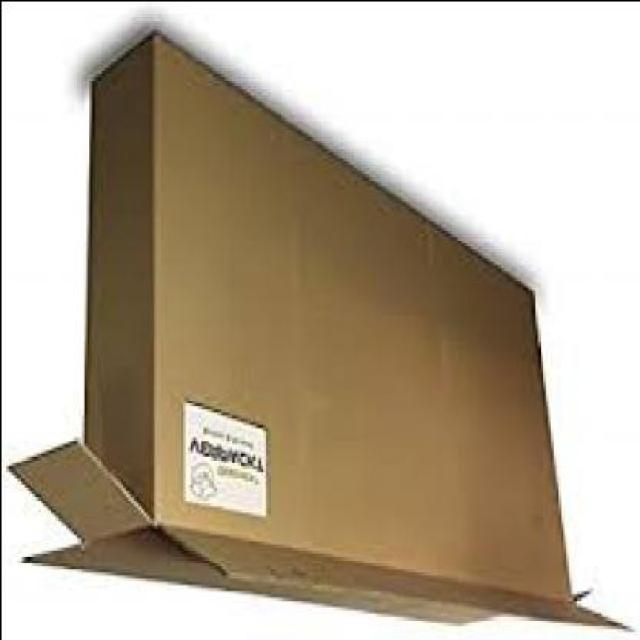CARDBOARD: (3, 34, 625, 637)
